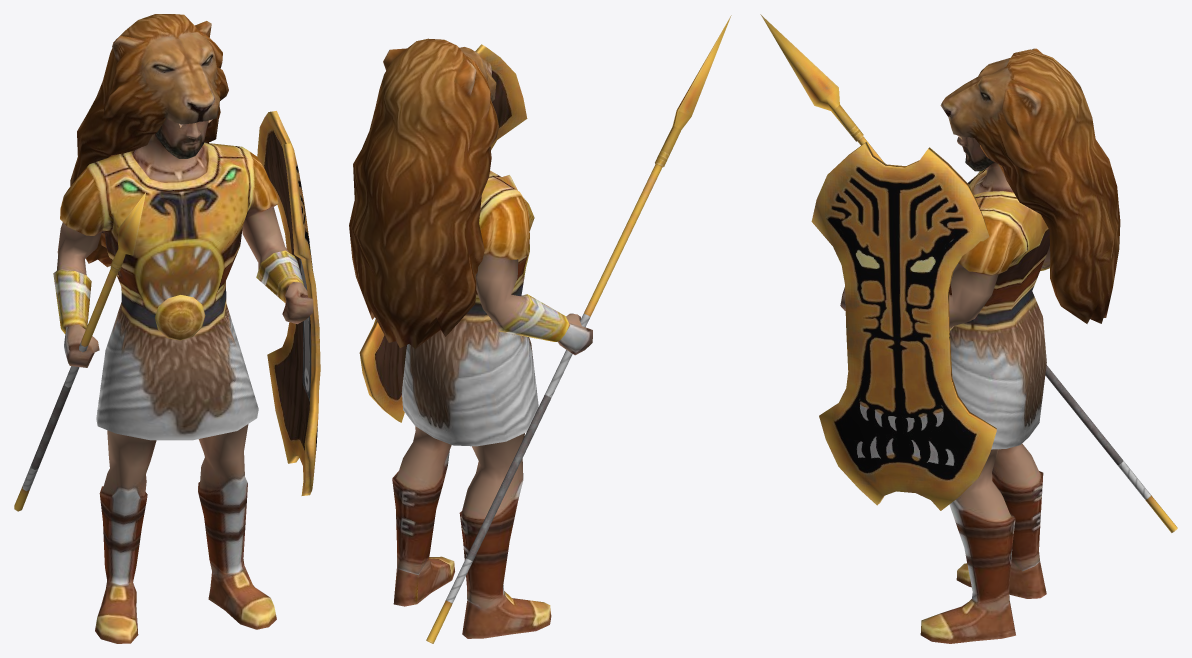
The model's file is 60-ajax.glb.
3 renders of one model, left to right at view 1: azimuth 30°, elevation 25°; view 2: azimuth 150°, elevation 25°; view 3: azimuth 270°, elevation 25°, orthographic. The views are drawn at different scales.
Bounding box in the file's own units: 1.22 × 2.69 × 1.82.
Materials: 3 (3 with a texture image).
